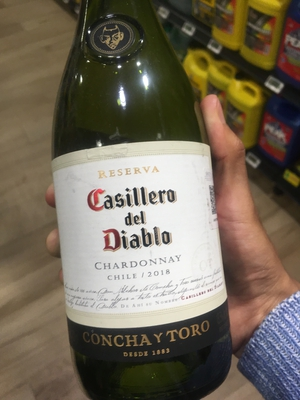casillero del diablo chardonnay: (46, 13, 239, 400)
